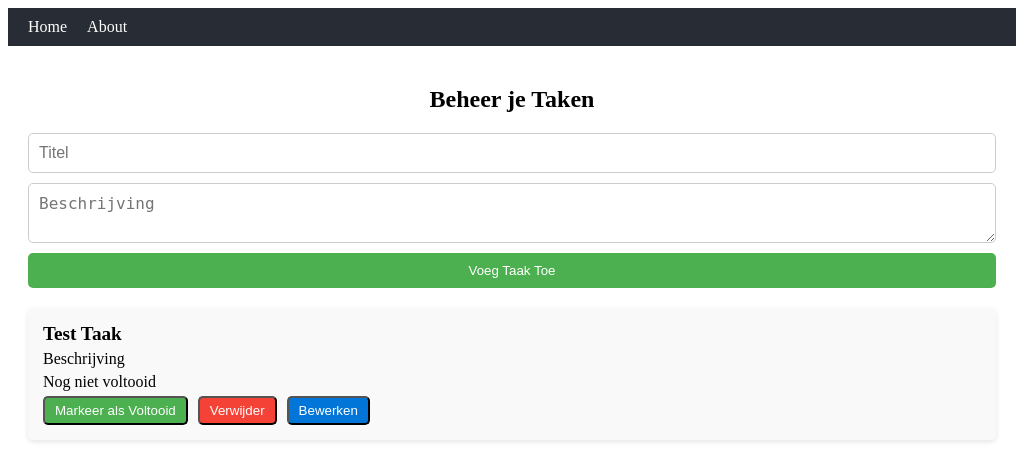
it: Task Manager - Mark Task as Completed › should mark a task as completed
The image size is (1024, 460).
# Zoek de taak en klik op "Markeer als Voltooid"
Click the button "Markeer als Voltooid": [116, 411] box 43,396 -> 188,425
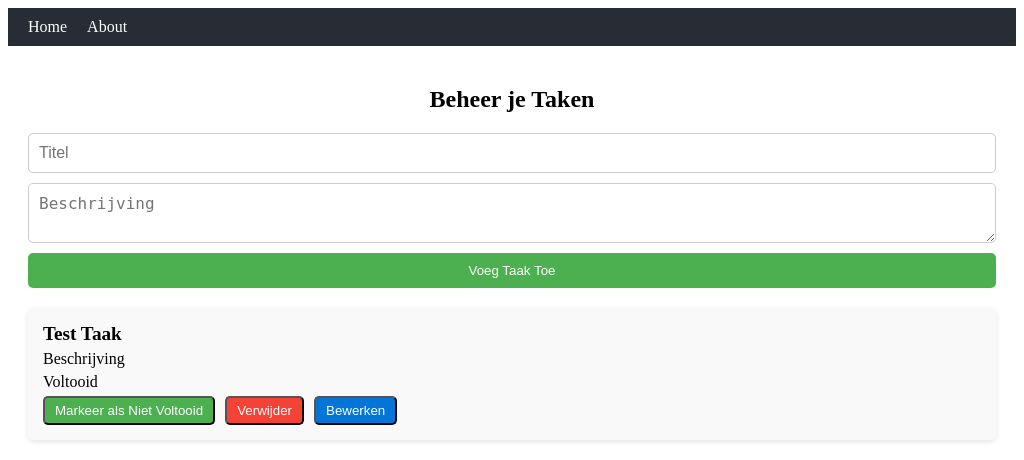
expect the text "Voltooid" is shown: met, box 43,373 -> 98,390
